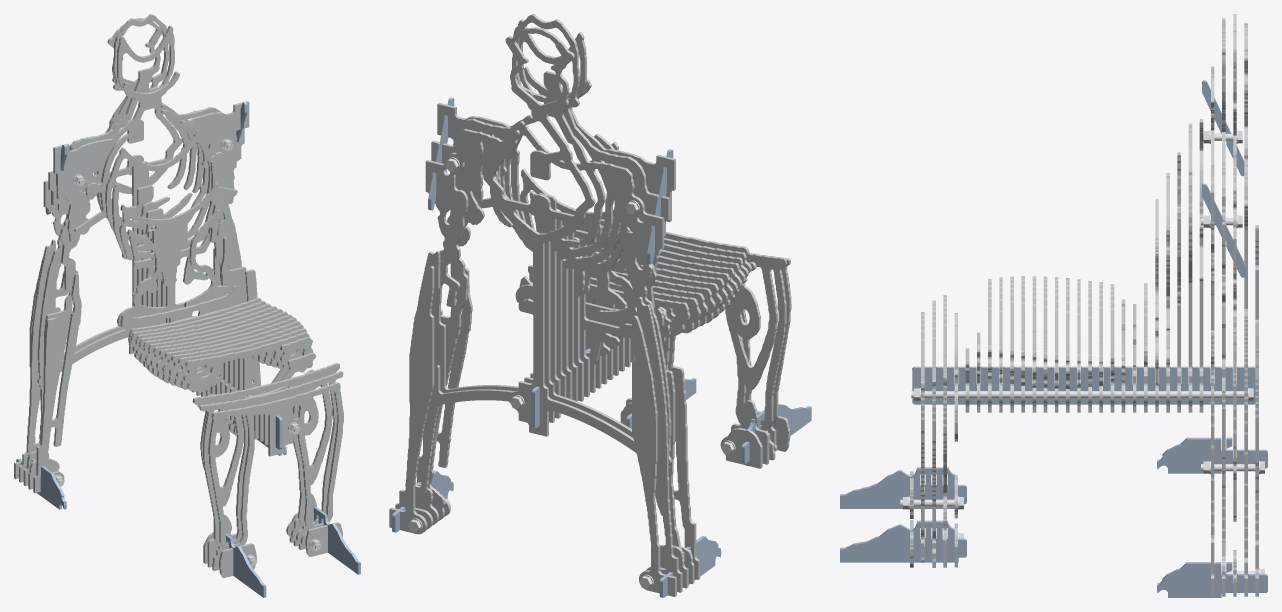
3 renders of one model, left to right at view 1: azimuth 30°, elevation 25°; view 2: azimuth 150°, elevation 25°; view 3: azimuth 270°, elevation 25°, orthographic. The views are drawn at different scales.
Parts seen in each view (by area): view 1: R06, R05, R04, R32, R03, R31, R10, R30, R11, R07, R26, R08 (+21 smaller); view 2: R03, R04, R05, R06, R02, R30, R10, R29, R31, R07, R08, R11 (+20 smaller); view 3: K01, FR, FL, HR, R05, HL, R03, R04, R06, BOLT_K01, R02, R08 (+14 smaller).
Part boxes in pixels (x1,y1,x2,y2): R06: (33, 71, 264, 493); R05: (28, 25, 246, 489); R04: (23, 14, 241, 486); R32: (208, 382, 343, 549); R03: (19, 18, 230, 482); R31: (199, 371, 343, 570); R10: (119, 183, 219, 322); R30: (192, 363, 339, 567); R11: (117, 209, 230, 327); R07: (74, 120, 237, 307); R26: (183, 332, 309, 426); R08: (105, 130, 213, 307); R03: (395, 27, 682, 592); R04: (415, 14, 688, 588); R05: (416, 19, 694, 584); R06: (417, 66, 700, 579); R02: (389, 266, 676, 596); R30: (626, 253, 786, 464); R10: (518, 168, 632, 397); R29: (620, 262, 762, 468); R31: (662, 253, 790, 460); R07: (478, 120, 662, 399); R08: (504, 125, 622, 401); R11: (515, 191, 636, 392); K01: (912, 366, 1255, 404); FR: (840, 520, 966, 562); FL: (840, 467, 966, 508); HR: (1157, 562, 1267, 597); R05: (1222, 18, 1225, 596); HL: (1157, 437, 1267, 473); R03: (1244, 23, 1247, 596); R04: (1233, 14, 1236, 596); R06: (1211, 66, 1214, 596); BOLT_K01: (911, 388, 1253, 401); R02: (1255, 225, 1258, 596); R08: (1188, 123, 1192, 412).
Bounding box in the file's own units: 0.704 × 1.28 × 0.96.
